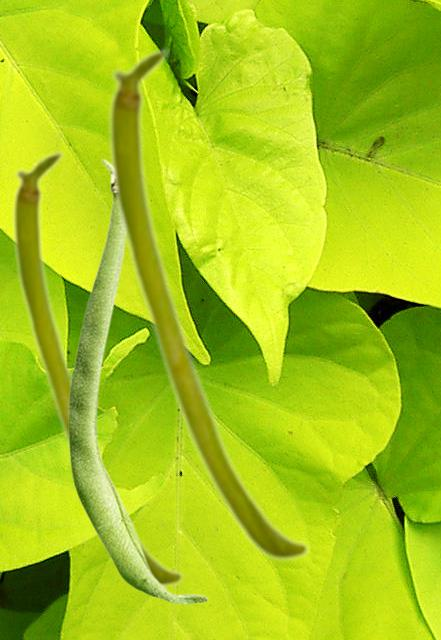french_bean: (107, 46, 310, 562), (11, 149, 184, 588), (68, 158, 208, 604)
